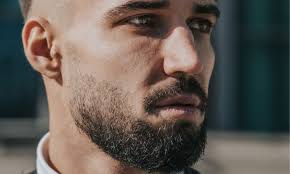b.y: (144, 74, 207, 166)
